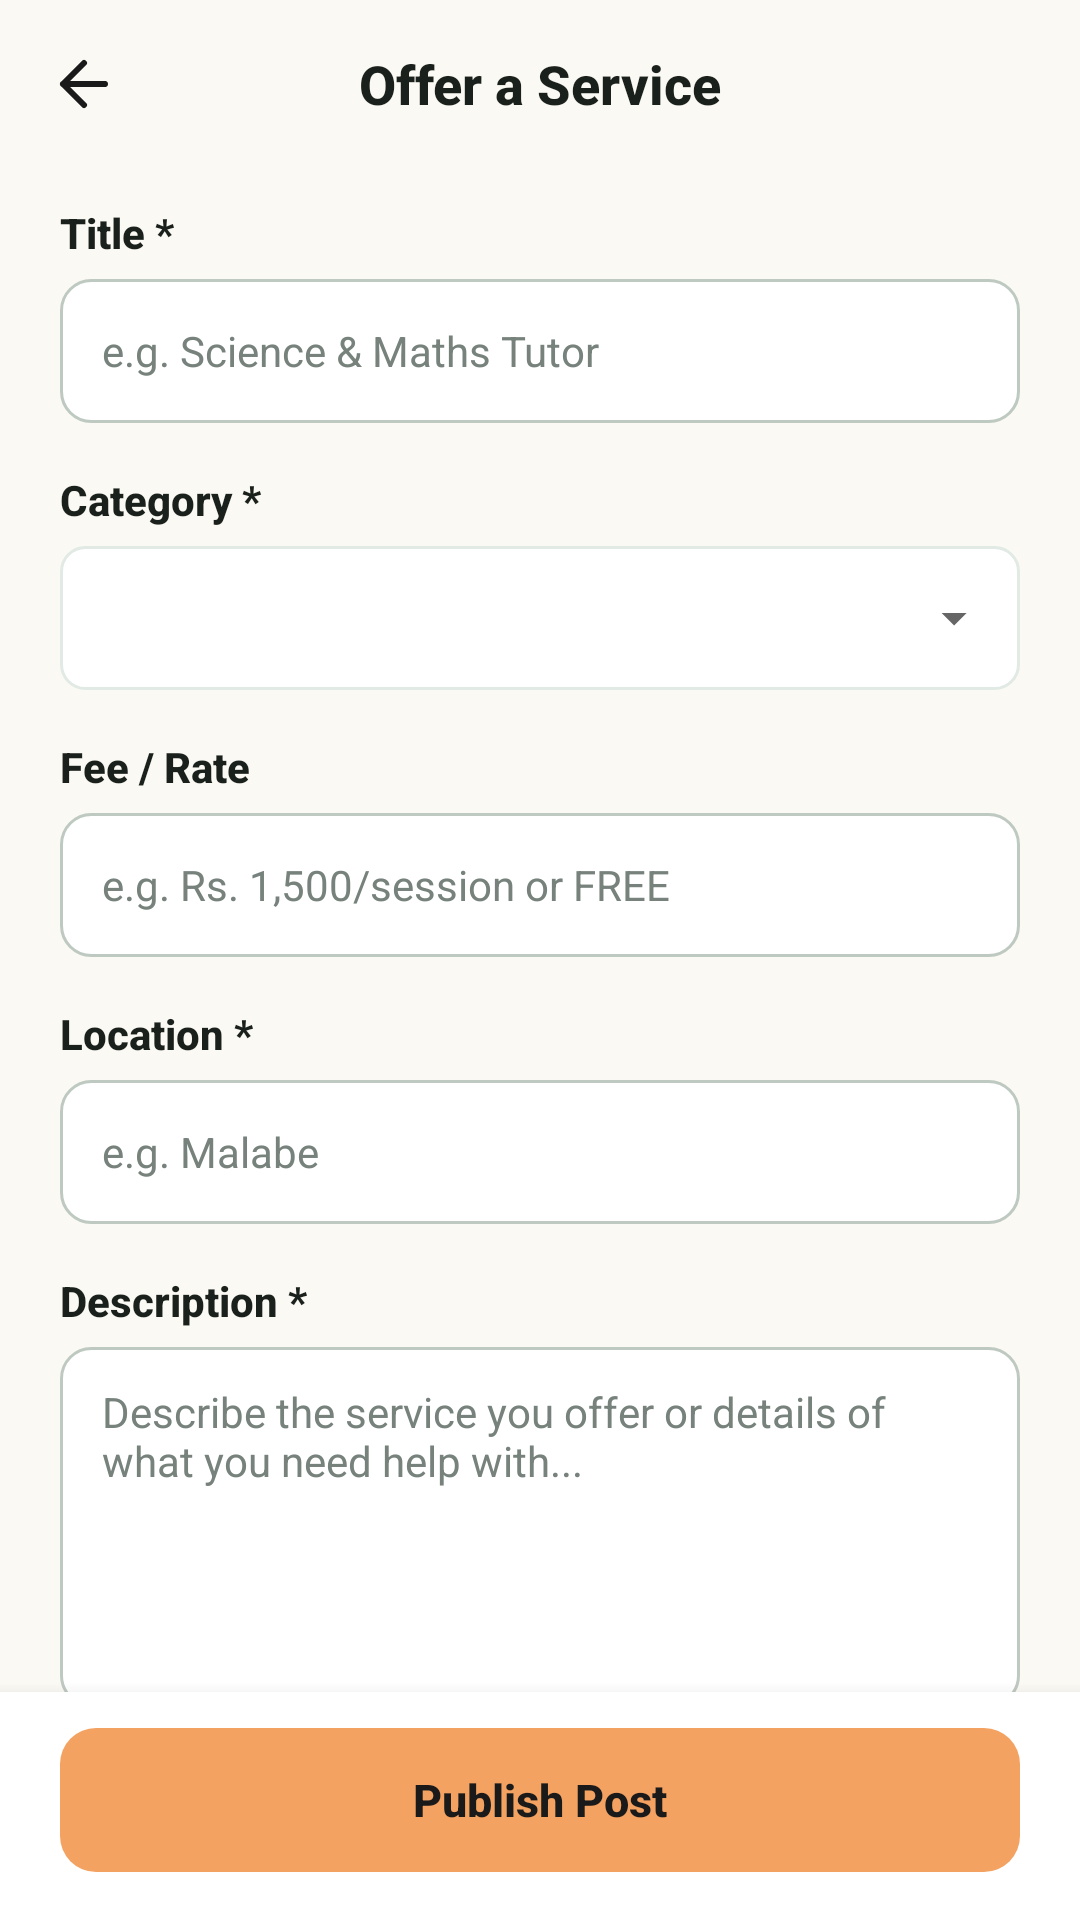

Where to tap for icons on this 1080*1920 app screen, as [x,y]:
Back: [84,84]
